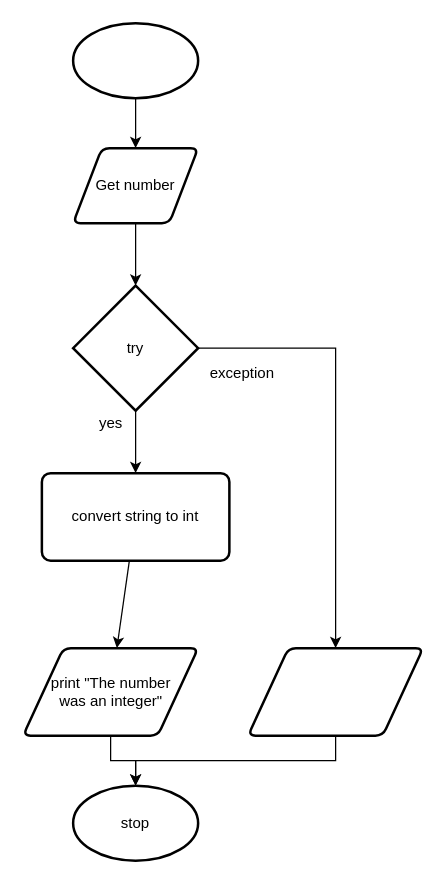
Some shapes in this 445 by 883 pixel diagram are drawn without their labels. The shapes that lost their labels are listed below. From the top down, each one's centre as x and y in pixels, then its label:
the point at 135,60: Start
the point at 335,691: print "The text is not an integer"
